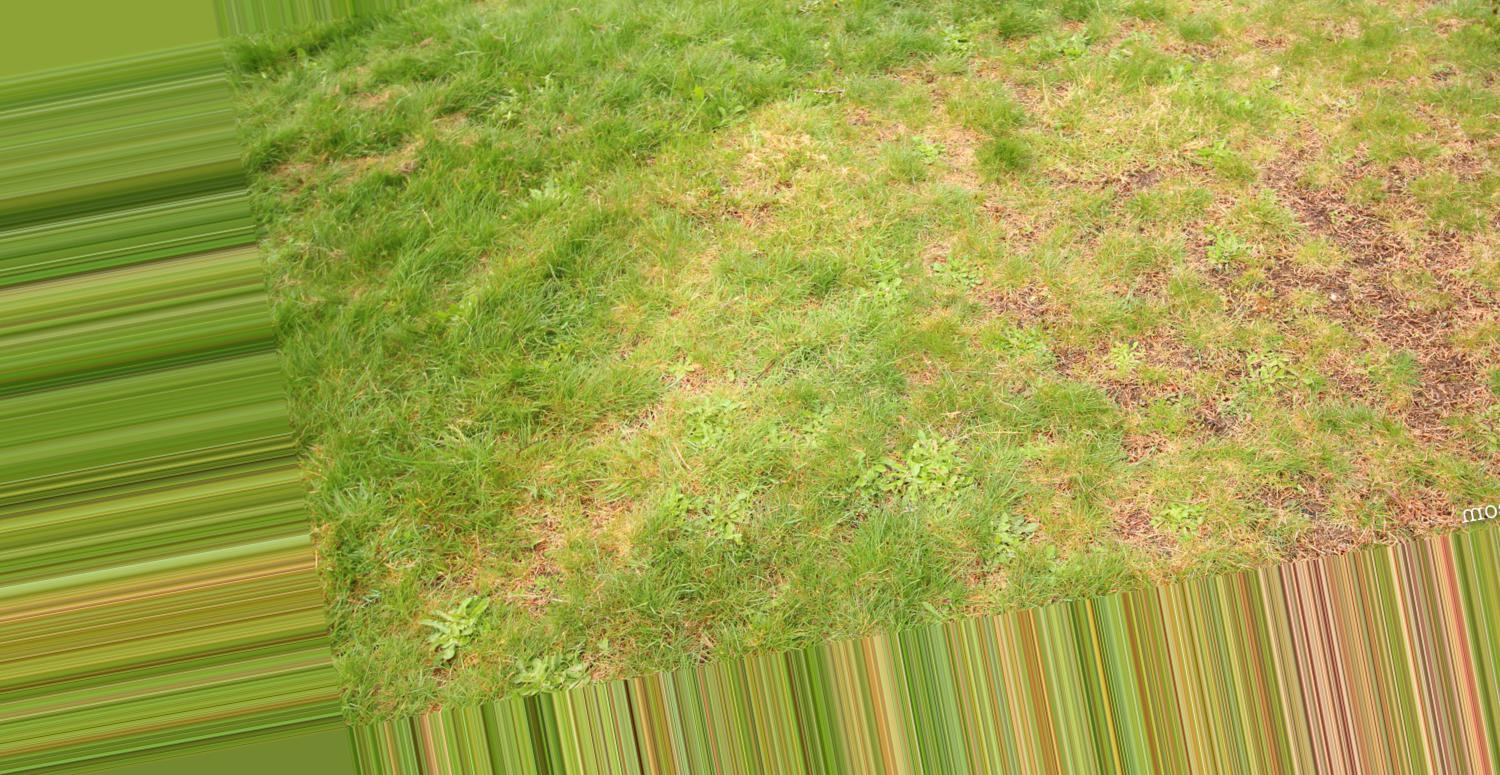patch: (1107, 209, 1500, 488)
